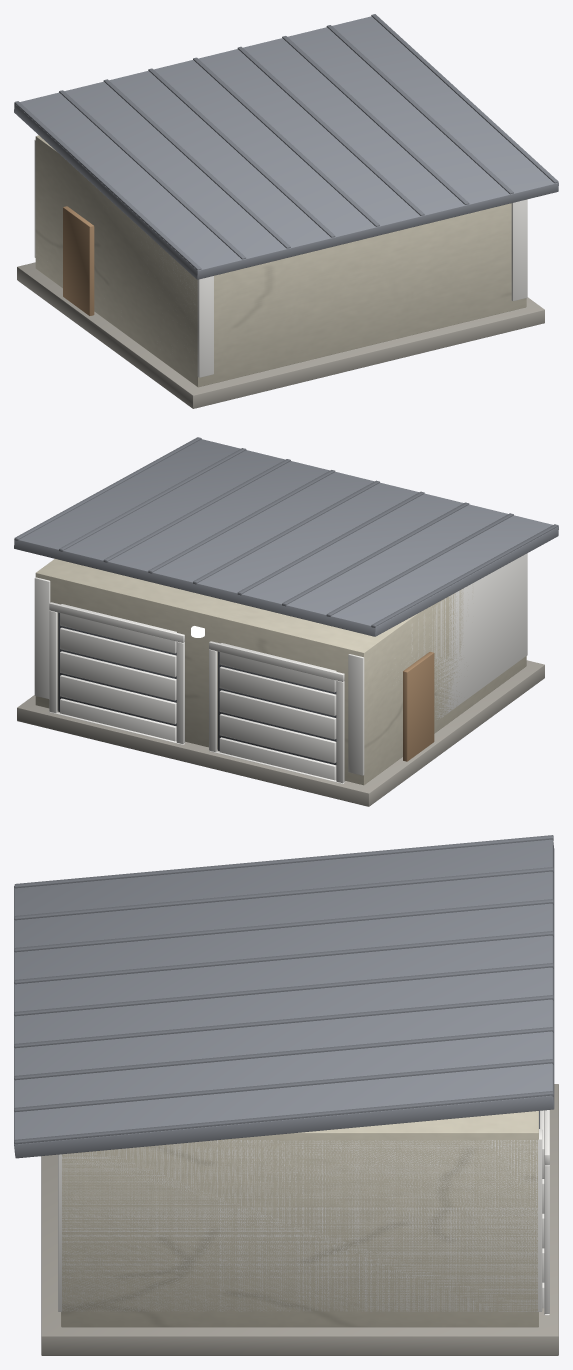
File: th47_garage.glb
3 views of the same model, one above another, from view 1: azimuth 30°, elevation 25°; view 2: azimuth 150°, elevation 25°; view 3: azimuth 270°, elevation 25° (orthographic). The views are drawn at different scales.
Parts seen in each view (by area): view 1: Cube.024, Cube.001, Cube, Cube.034, Cube.002, Cube.003, Cube.025, Cube.027, Cube.030, Cube.033, Cube.026, Cube.028 (+3 smaller); view 2: Cube.024, Cube.001, Cube.002, Cube, Cube.034, Cube.007, Cube.008, Cube.006, Cube.018, Cube.017, Cube.016, Cube.003 (+21 smaller); view 3: Cube.024, Cube.001, Cube.003, Cube, Cube.033, Cube.029, Cube.025, Cube.026, Cube.027, Cube.028, Cube.030, Cube.031 (+2 smaller).
Part boxes in pixels (x1,y1,x2,y2): Cube.024: [14, 16, 558, 279]; Cube.001: [35, 135, 526, 387]; Cube: [17, 262, 544, 408]; Cube.034: [63, 206, 94, 315]; Cube.002: [34, 139, 213, 377]; Cube.003: [511, 199, 527, 301]; Cube.025: [14, 101, 201, 270]; Cube.027: [103, 79, 290, 248]; Cube.030: [237, 46, 424, 215]; Cube.033: [371, 14, 558, 183]; Cube.026: [59, 90, 246, 259]; Cube.028: [148, 68, 335, 237]; Cube.024: [14, 439, 558, 636]; Cube.001: [35, 559, 526, 785]; Cube.002: [348, 553, 527, 775]; Cube: [17, 660, 544, 806]; Cube.034: [403, 651, 434, 761]; Cube.007: [219, 690, 336, 739]; Cube.008: [219, 666, 336, 715]; Cube.006: [219, 714, 336, 763]; Cube.018: [60, 627, 176, 676]; Cube.017: [60, 651, 176, 700]; Cube.016: [60, 675, 176, 724]; Cube.003: [34, 577, 50, 698]; Cube.024: [14, 839, 554, 1158]; Cube.001: [61, 1111, 538, 1327]; Cube.003: [58, 1129, 542, 1311]; Cube: [41, 1084, 558, 1355]; Cube.033: [14, 1091, 553, 1144]; Cube.029: [14, 963, 553, 1016]; Cube.025: [14, 835, 553, 888]; Cube.026: [14, 867, 553, 920]; Cube.027: [14, 899, 553, 952]; Cube.028: [14, 931, 553, 984]; Cube.030: [14, 995, 553, 1048]; Cube.031: [14, 1027, 553, 1080].
Bounding box in the file's own units: 7.7 × 3.68 × 6.84.
Materials: 8 (1 with a texture image).
